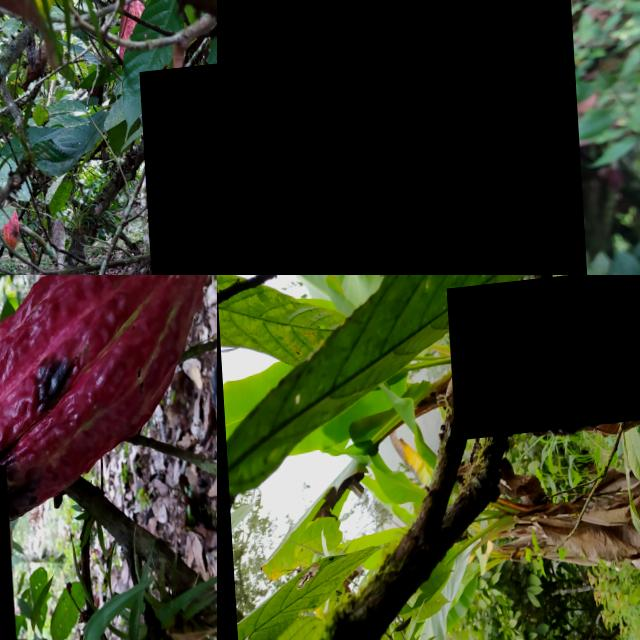Fitoftora: (217, 0, 582, 275), (0, 275, 217, 537)
Monilia: (443, 275, 640, 445), (137, 71, 217, 275)
